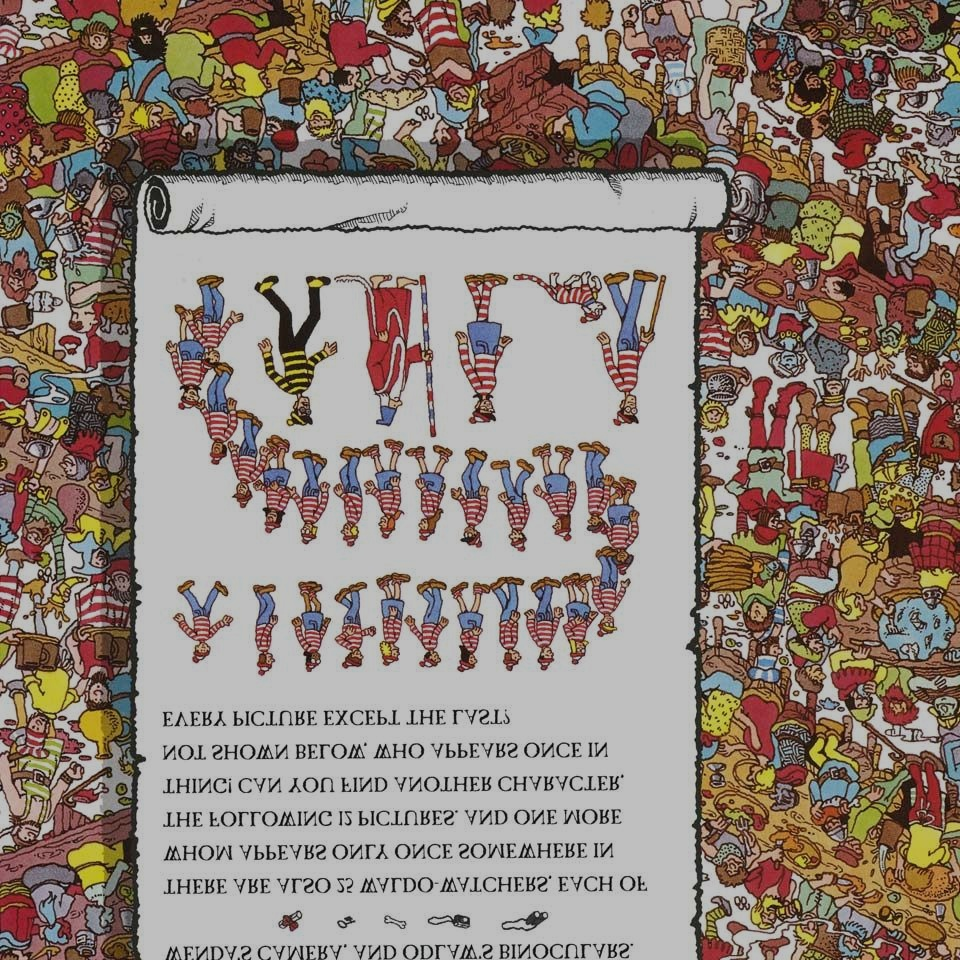waldo: (597, 270, 669, 427)
